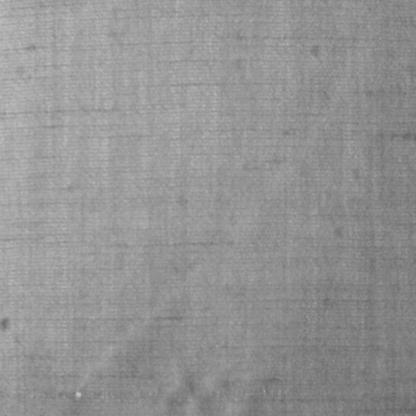hole: (75, 389, 81, 399)
